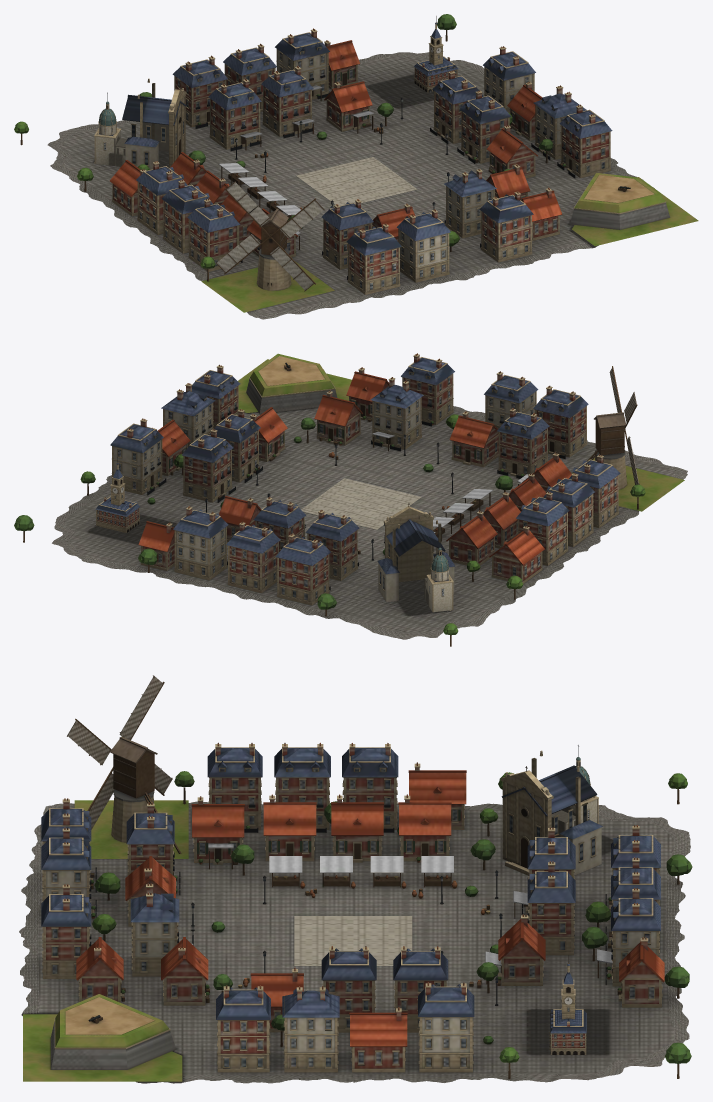
File: gunpowder-town-big-b-europe.glb
The picture shows the model from 3 angles, top to bottom: view 1: azimuth 30°, elevation 25°; view 2: azimuth 150°, elevation 25°; view 3: azimuth 270°, elevation 25°; orthographic projection. The views are drawn at different scales.
Visible parts, largest first — view 1: LOD0; view 2: LOD0; view 3: LOD0.
Boxes of the visible parts, x1,y1,x2,y2 form: LOD0: (14, 14, 698, 319); LOD0: (14, 353, 687, 646); LOD0: (19, 675, 692, 1083).
Size of what is drawn, in the model's own units: 8.05 by 1.84 by 8.12.
3 materials, 3 textured.
